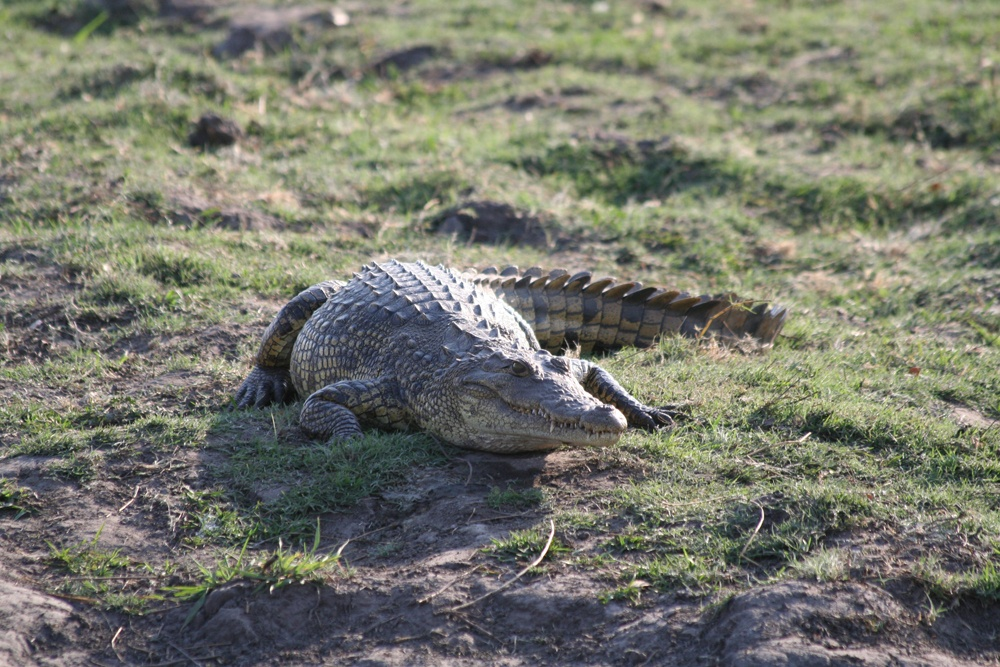crocodile: (226, 251, 792, 459)
